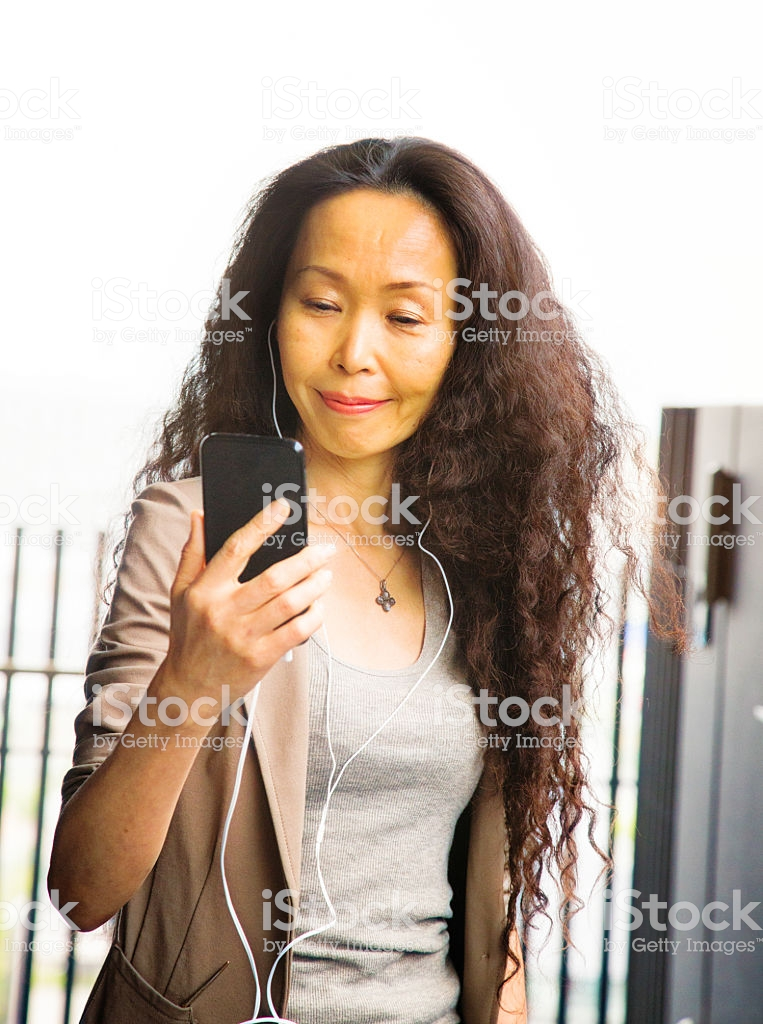phone: (197, 425, 315, 638)
